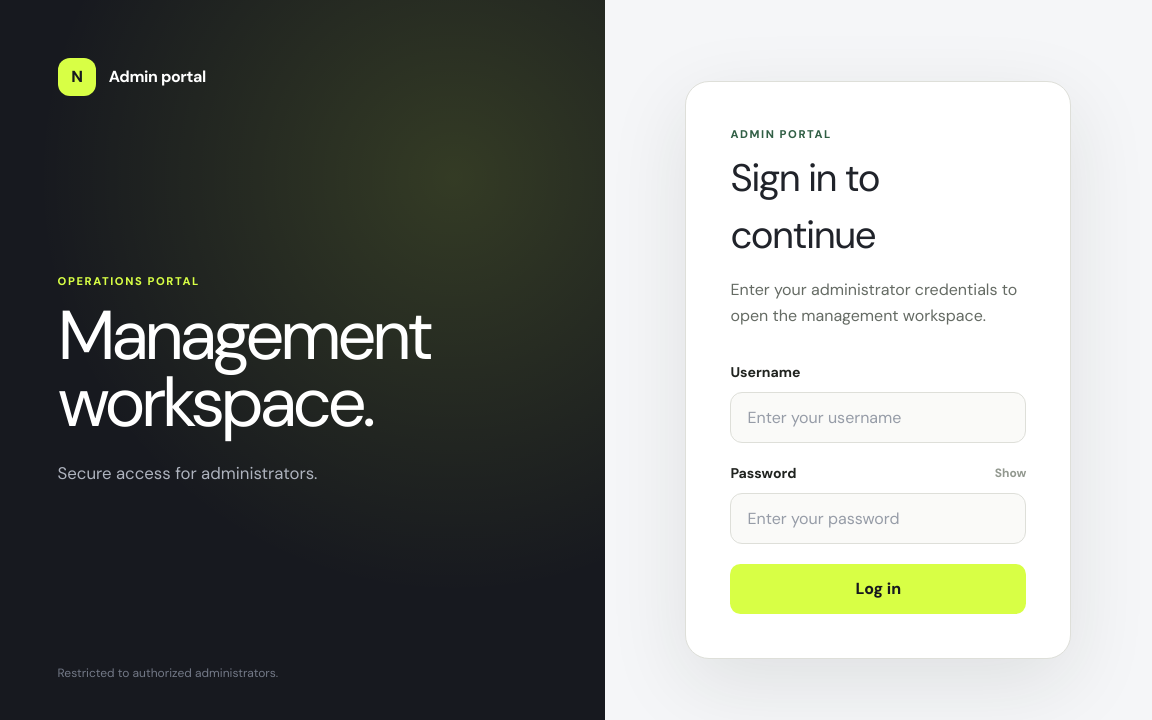
Scenario: AdminLoginPageComponent › shows a generic error for invalid credentials without identifying an incorrect field
Type "admin@example.com" into the field with id "username" at (878, 418), box top-left (730, 392), bottom-right (1026, 443)
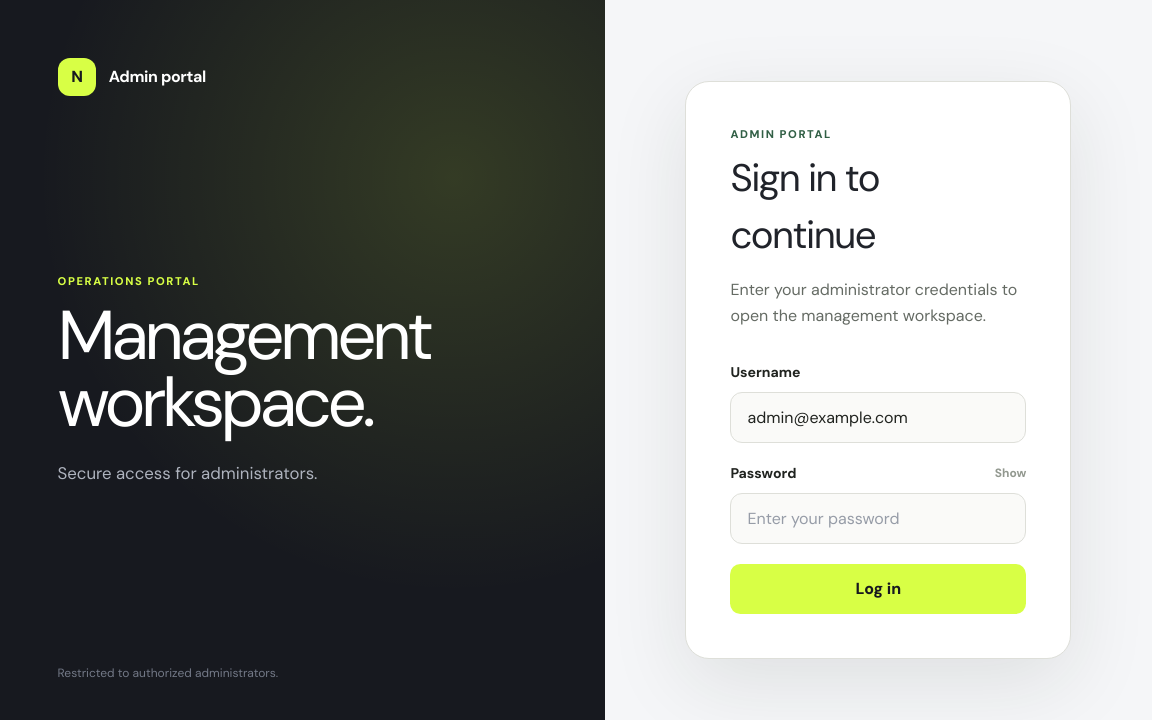
Type "wrong-password" into the password field labelled "Password" at (878, 519), box top-left (730, 493), bottom-right (1026, 544)
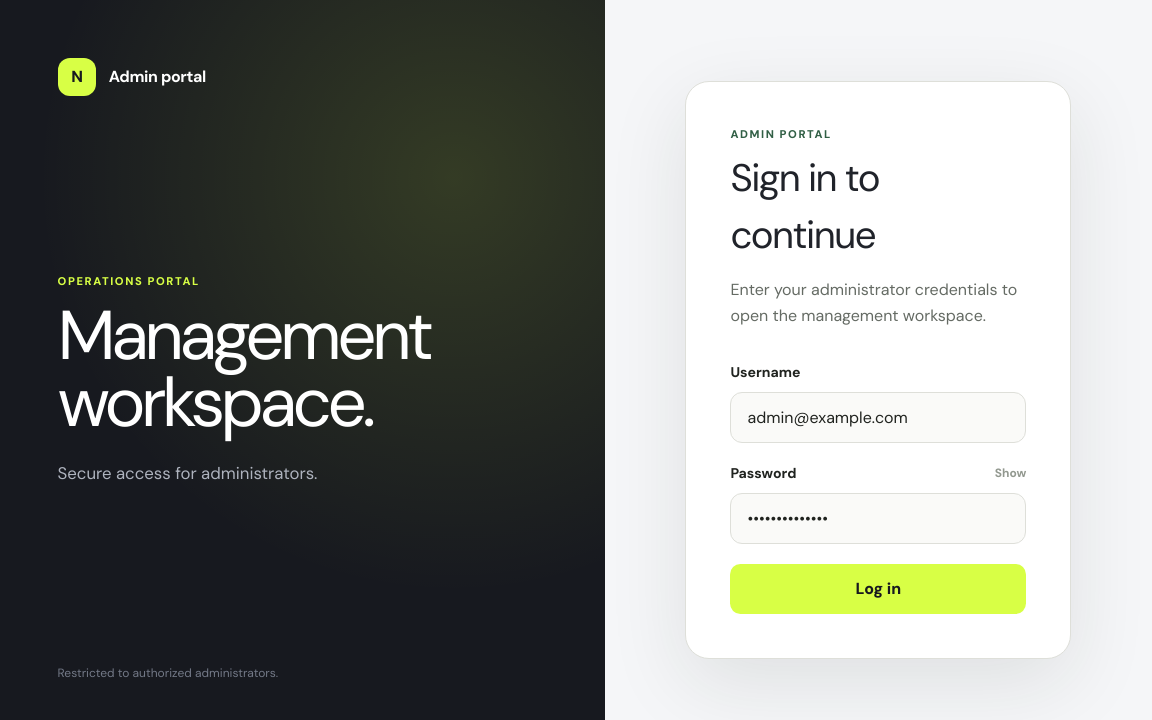
Click the submit button at (878, 589), box top-left (730, 564), bottom-right (1026, 614)
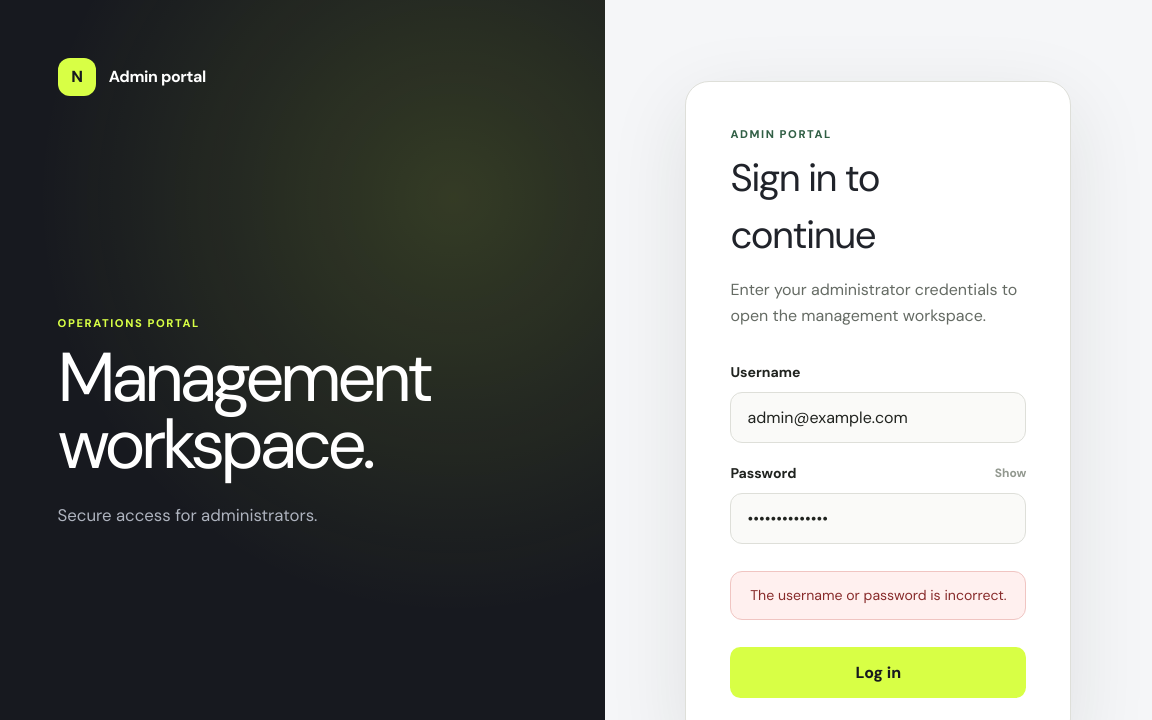
Expected: the message "The username or password is incorrect." is shown, top-left (730, 571), bottom-right (1026, 620)
